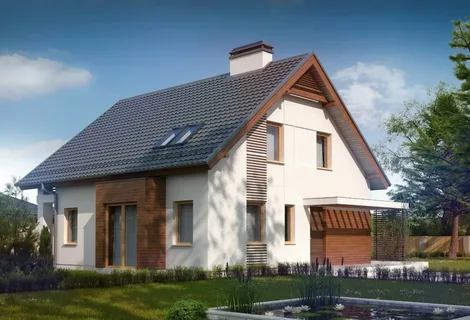private_hause: (55, 87, 377, 262)
